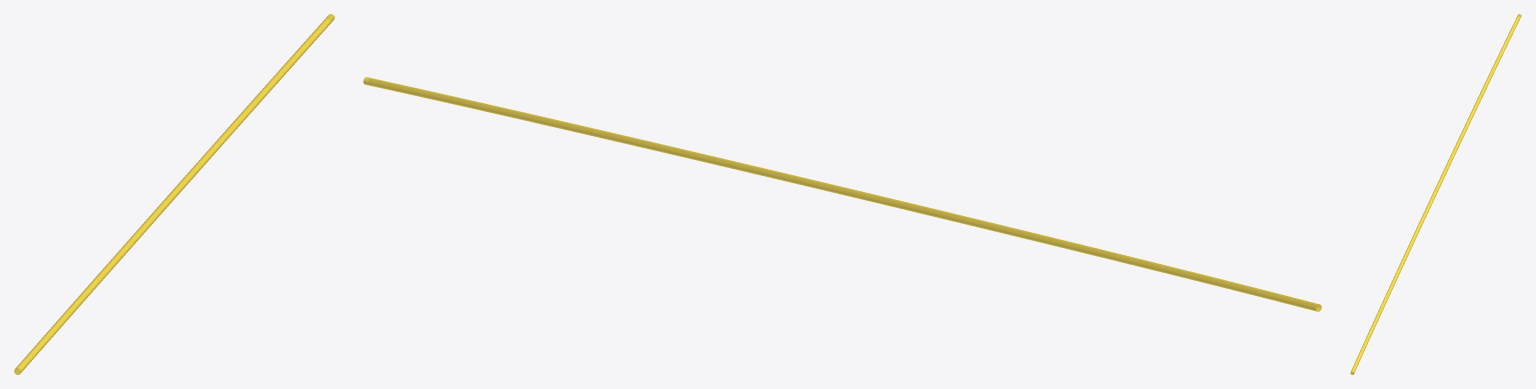
File: Event_15818458_track_8.fbx
3 views of the same model, side by side, from view 1: azimuth 90°, elevation 25°; view 2: azimuth 150°, elevation 25°; view 3: azimuth 270°, elevation 25° (orthographic). The views are drawn at different scales.
Parts seen in each view (by area): view 1: Model; view 2: Model; view 3: Model.
Boxes of the visible parts, x1=… form: Model: x1=14, y1=14, x2=334, y2=374; Model: x1=363, y1=77, x2=1321, y2=311; Model: x1=1350, y1=14, x2=1521, y2=374.
Size of the model in its own units: 6.62 by 0.9912 by 1.75.
